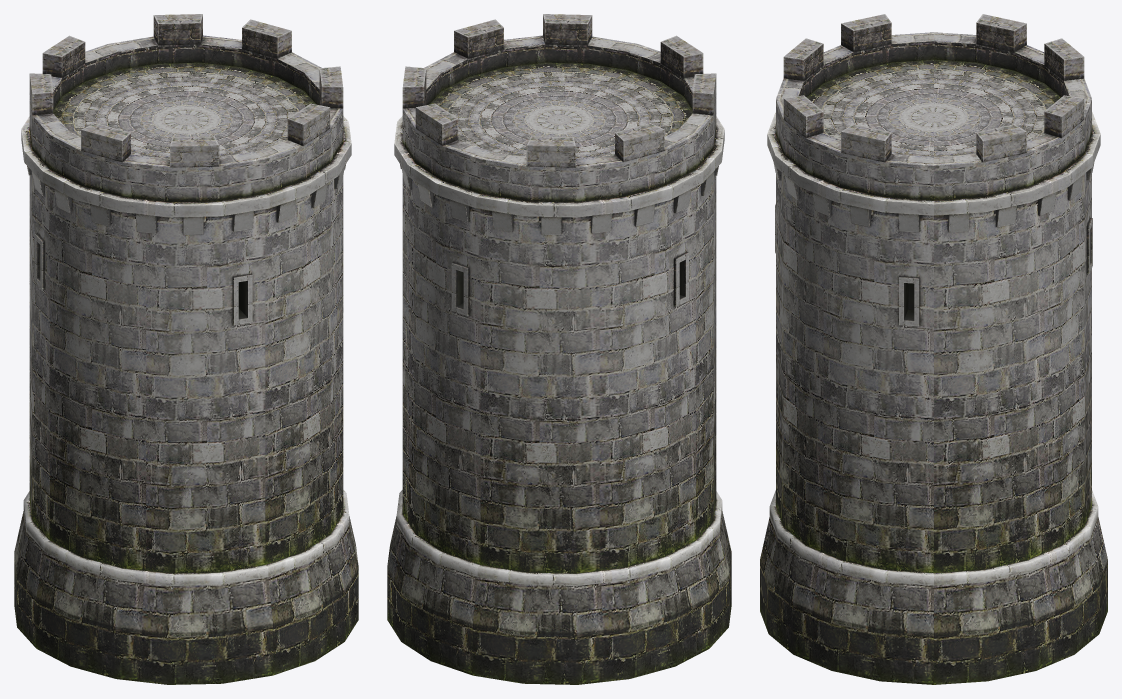
The model's file is CastleBuilding01.FBX.
3 renders of one model, left to right at view 1: azimuth 30°, elevation 25°; view 2: azimuth 150°, elevation 25°; view 3: azimuth 270°, elevation 25°, orthographic.
Visible parts, largest first — view 1: CastleBuilding01; view 2: CastleBuilding01; view 3: CastleBuilding01.
Part boxes in pixels (<box>): CastleBuilding01: <box>14,14,358,684</box>; CastleBuilding01: <box>387,14,731,684</box>; CastleBuilding01: <box>760,14,1107,684</box>.
Bounding box in the file's own units: 1838 × 3113 × 1838.
